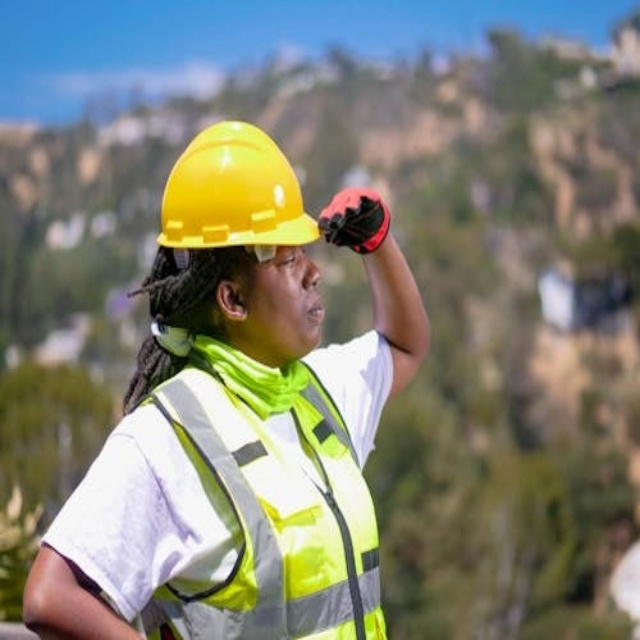Guantes: (317, 188, 390, 254)
Sin_gafas: (276, 244, 310, 271)
Sin_mascara: (283, 290, 329, 343)
